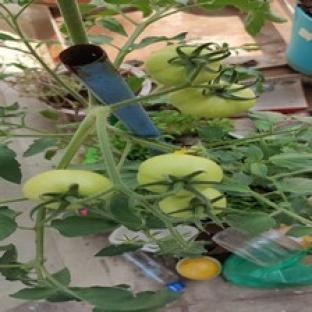Tomato: (144, 45, 228, 86), (137, 154, 222, 193), (169, 84, 256, 118), (23, 169, 112, 200), (159, 195, 207, 220), (176, 257, 221, 279)
